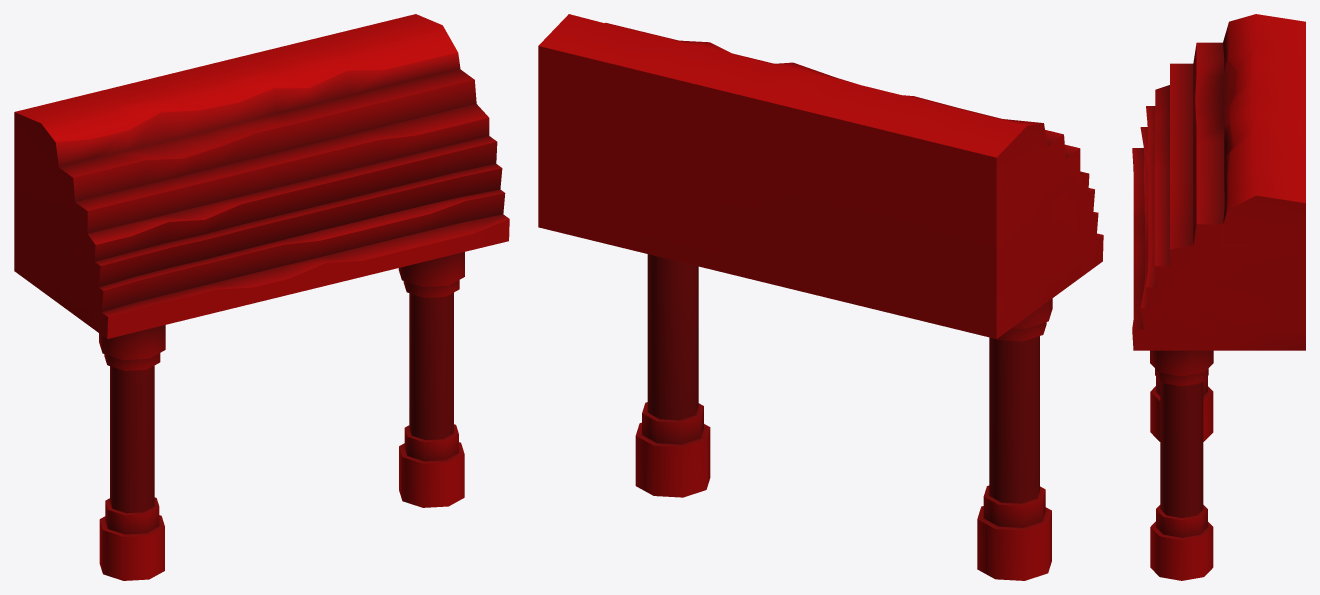
File: buildings-ruins-templeruins_v10.fbx
3 renders of one model, left to right at view 1: azimuth 30°, elevation 25°; view 2: azimuth 150°, elevation 25°; view 3: azimuth 270°, elevation 25°, orthographic. The views are drawn at different scales.
Visible parts, largest first — view 1: TempleRuins_v10; view 2: TempleRuins_v10; view 3: TempleRuins_v10.
Part boxes in pixels (x1=…): TempleRuins_v10: x1=14, y1=14, x2=509, y2=580; TempleRuins_v10: x1=538, y1=14, x2=1103, y2=580; TempleRuins_v10: x1=1132, y1=14, x2=1305, y2=580.
Size of the model in its own units: 6.36 by 6.46 by 2.57.
